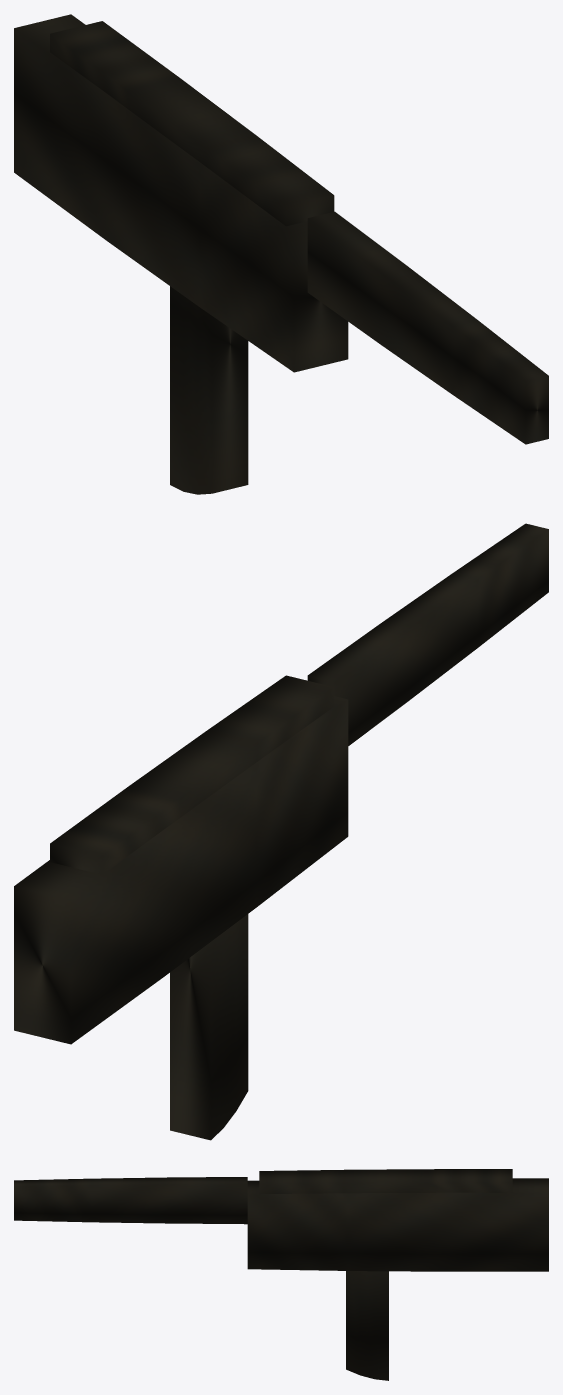
The model's file is wpn_m870_breacher.glb.
The picture shows the model from 3 angles, top to bottom: view 1: azimuth 30°, elevation 25°; view 2: azimuth 150°, elevation 25°; view 3: azimuth 270°, elevation 25°; orthographic projection. The views are drawn at different scales.
Visible parts, largest first — view 1: SubMesh_0_Receiver, SubMesh_3_BarrelSight, SubMesh_1_Action, SubMesh_2_Magazine; view 2: SubMesh_0_Receiver, SubMesh_3_BarrelSight, SubMesh_1_Action, SubMesh_2_Magazine; view 3: SubMesh_0_Receiver, SubMesh_3_BarrelSight, SubMesh_1_Action, SubMesh_2_Magazine.
Part boxes in pixels (x1,y1,x2,y2): SubMesh_0_Receiver: [14, 14, 348, 372]; SubMesh_3_BarrelSight: [307, 211, 548, 444]; SubMesh_1_Action: [50, 21, 334, 226]; SubMesh_2_Magazine: [170, 286, 248, 494]; SubMesh_0_Receiver: [14, 696, 348, 1044]; SubMesh_3_BarrelSight: [307, 523, 548, 745]; SubMesh_1_Action: [50, 675, 334, 874]; SubMesh_2_Magazine: [170, 914, 248, 1140]; SubMesh_0_Receiver: [247, 1178, 548, 1271]; SubMesh_3_BarrelSight: [14, 1177, 247, 1224]; SubMesh_1_Action: [259, 1169, 512, 1194]; SubMesh_2_Magazine: [346, 1271, 388, 1380].
Bounding box in the file's own units: 0.0583 × 0.358 × 0.87.
1 material, 1 textured.
